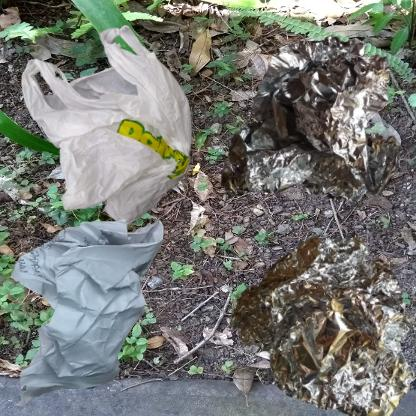aluminio: (213, 10, 416, 262), (213, 213, 416, 416)
bolsa: (10, 10, 242, 269)
papel: (10, 213, 164, 406)
